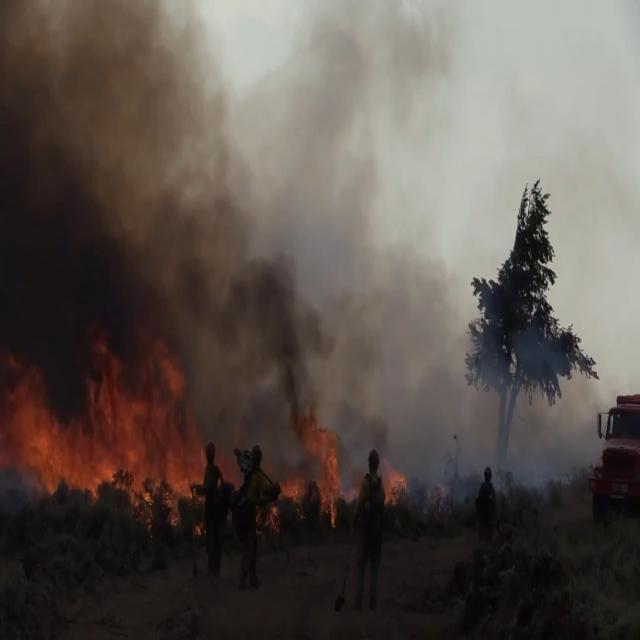Fire: (1, 284, 407, 540)
